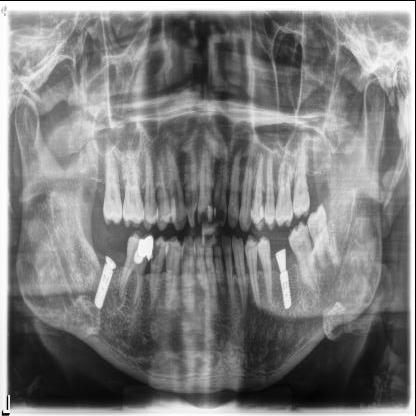ITI: (91, 262, 118, 316), (276, 263, 294, 314)
